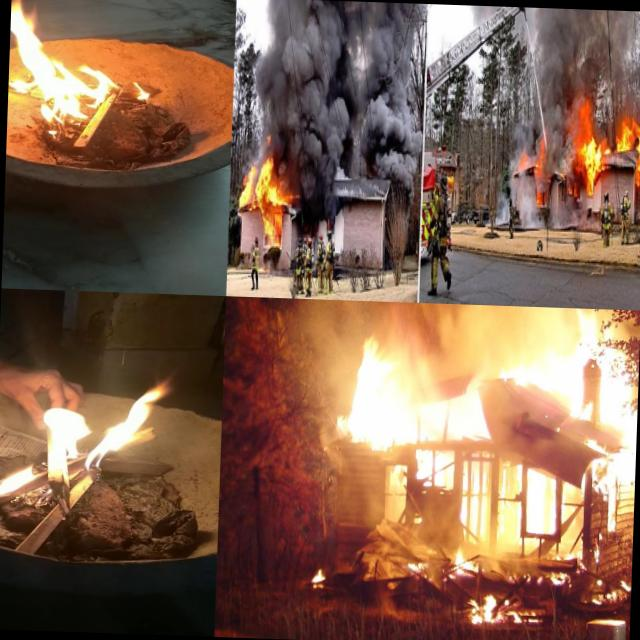fire: (339, 300, 640, 596), (0, 372, 167, 513), (7, 0, 159, 136), (238, 166, 285, 246), (576, 100, 605, 197), (612, 111, 640, 191), (517, 148, 538, 176)
smoke: (253, 0, 433, 171), (537, 8, 583, 174), (581, 9, 639, 89), (284, 168, 336, 222), (550, 196, 600, 228), (376, 170, 415, 208), (494, 166, 516, 223), (514, 176, 538, 227)
